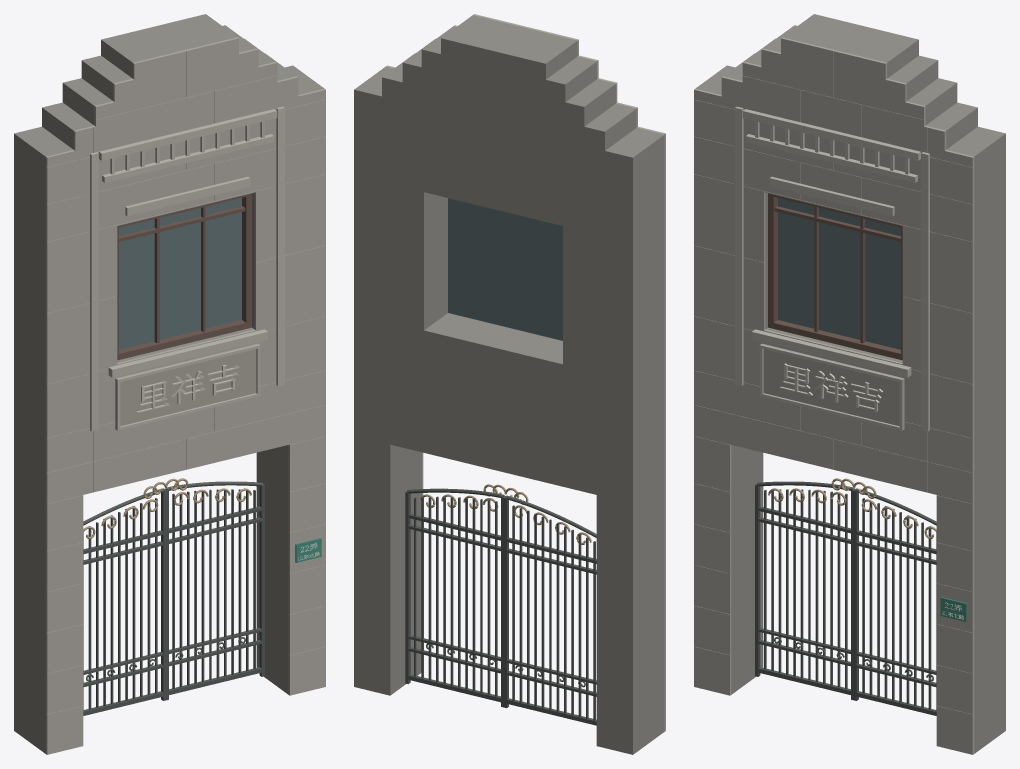
File: huangpu-jixiangli-west-gate-raw.glb
3 renders of one model, left to right at view 1: azimuth 30°, elevation 25°; view 2: azimuth 150°, elevation 25°; view 3: azimuth 330°, elevation 25°, orthographic.
Visible parts, largest first — view 1: 吉祥里山东北路西弄门; view 2: 吉祥里山东北路西弄门; view 3: 吉祥里山东北路西弄门.
Part boxes in pixels (bbox=[...]): 吉祥里山东北路西弄门: bbox=[14, 14, 325, 754]; 吉祥里山东北路西弄门: bbox=[354, 14, 665, 754]; 吉祥里山东北路西弄门: bbox=[694, 14, 1005, 754].
Size of the model in its own units: 4.58 by 10.51 by 1.04.
